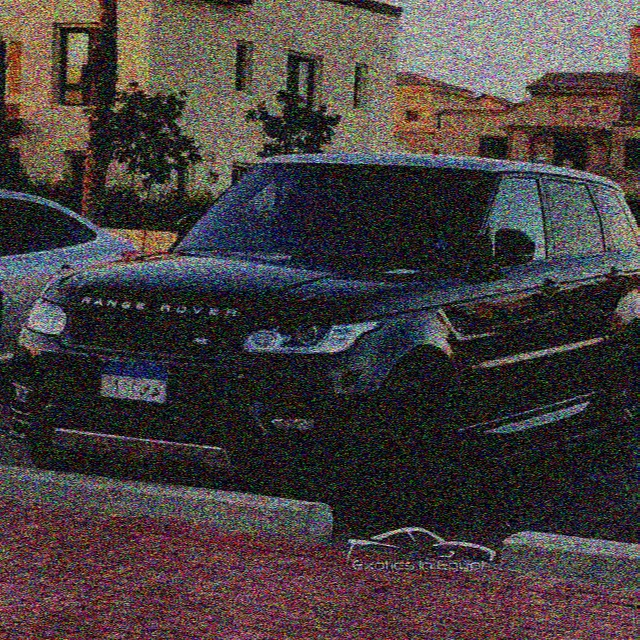License Plate: (97, 357, 172, 406)
